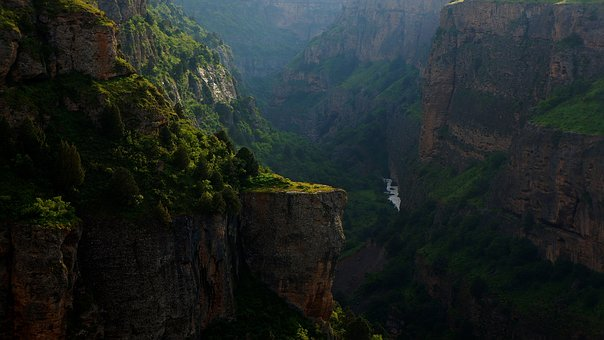forest: (7, 5, 603, 332)
